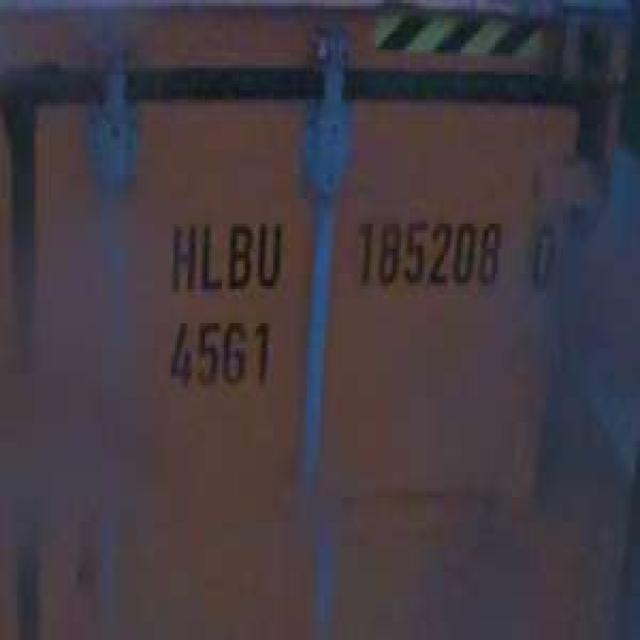dv: (523, 204, 563, 303)
owner: (162, 208, 286, 298)
serial: (350, 205, 503, 298)
size: (162, 308, 277, 394)
